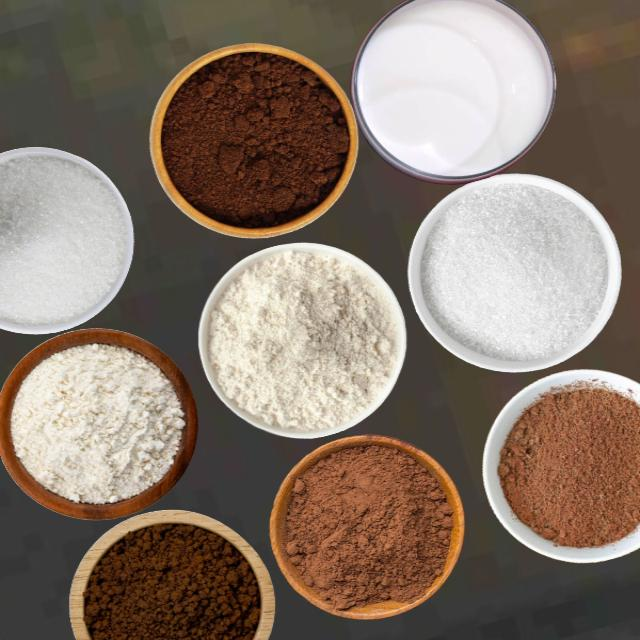Cocoa: (272, 453, 460, 610), (497, 378, 639, 548)
Coffee: (159, 48, 350, 229), (82, 522, 261, 639)
Flour: (207, 248, 397, 431), (9, 342, 185, 505)
Sugar: (420, 182, 608, 361), (0, 153, 128, 326)
